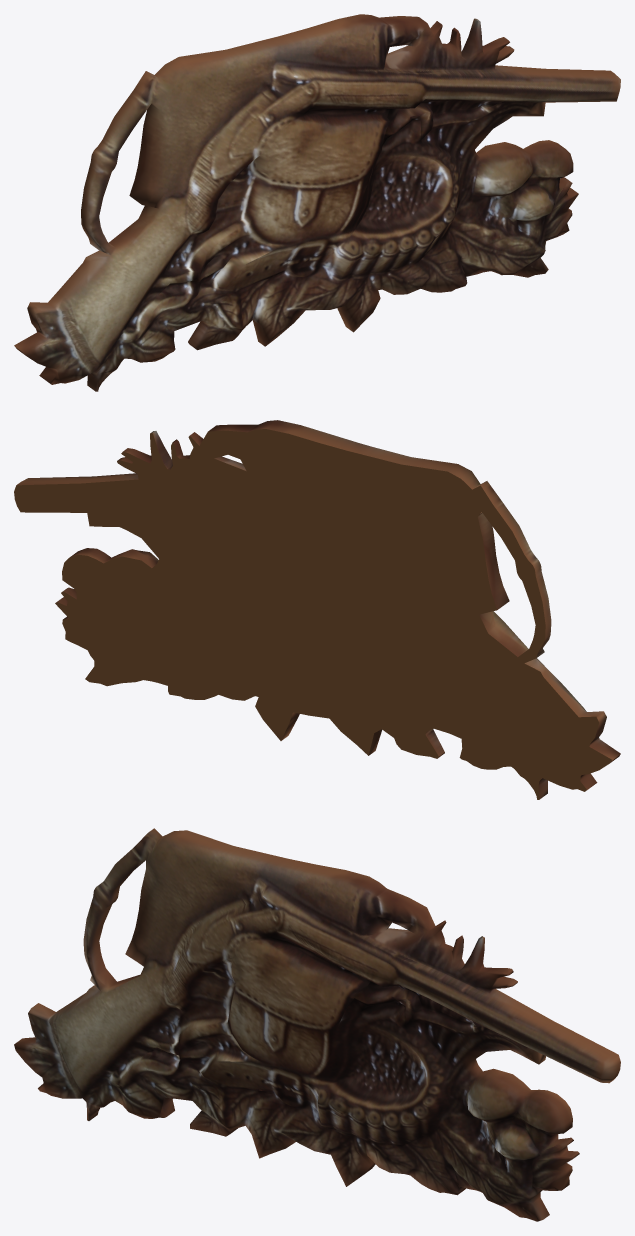
The model's file is Art4599.fbx.
3 views of the same model, one above another, from view 1: azimuth 30°, elevation 25°; view 2: azimuth 150°, elevation 25°; view 3: azimuth 330°, elevation 25° (orthographic).
Visible parts, largest first — view 1: Mesh_2; view 2: Mesh_2; view 3: Mesh_2.
Part boxes in pixels (x1,y1,x2,y2): Mesh_2: (14, 14, 620, 391); Mesh_2: (14, 420, 620, 799); Mesh_2: (14, 828, 620, 1221).
Size of the model in its own units: 16.84 by 8.35 by 1.13.
Materials: 1 (1 with a texture image).
